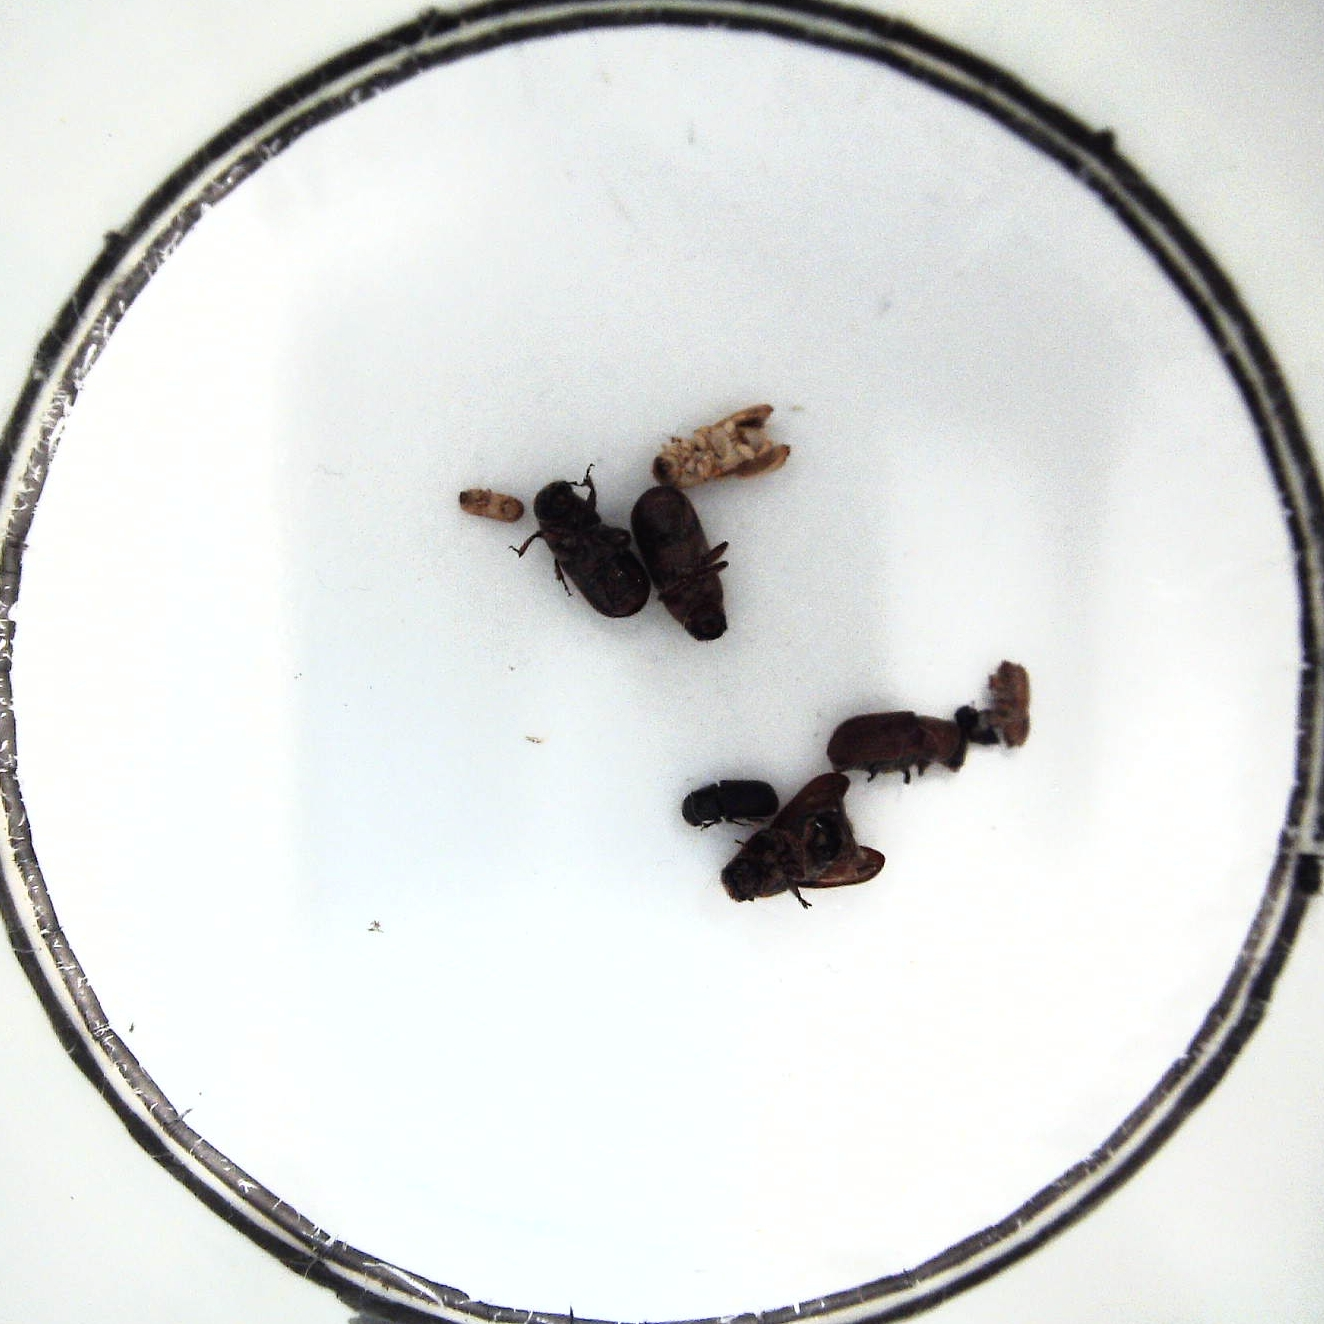Boerner: (650, 401, 797, 487)
Leconte: (720, 774, 888, 902), (530, 463, 651, 622), (635, 487, 737, 647), (824, 702, 966, 782)
Linnaeus: (991, 656, 1040, 751)
acuminatus: (451, 483, 523, 527)
armandi: (679, 774, 783, 833)
coleoptera: (960, 702, 999, 753)
